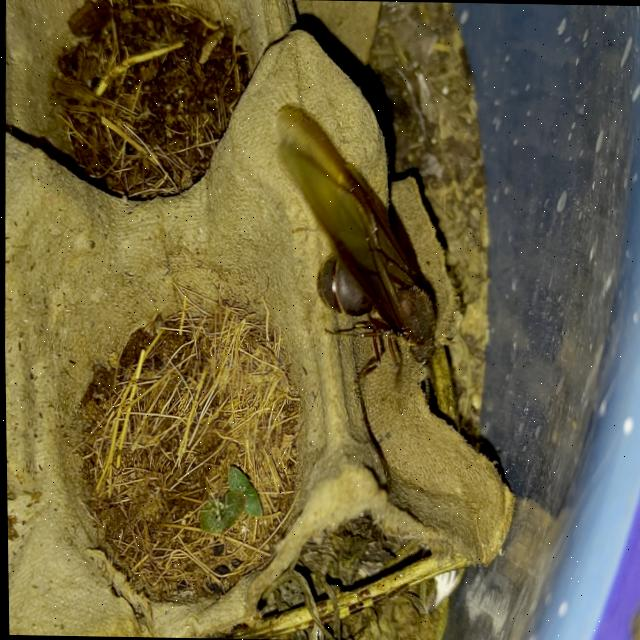Alive-Female-Alate: (267, 102, 441, 399)
